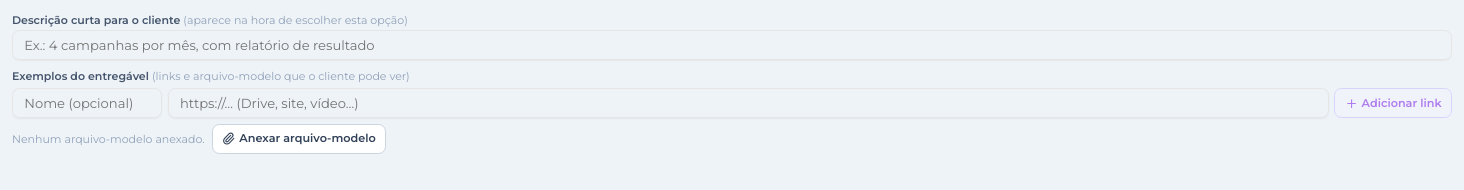
Test case: variação: descrição, links e arquivo-modelo › salva a descrição ao sair do campo e adiciona links válidos; recusa link sem http
The width and height of the screenshot is (1464, 190).
Later steps or results of the test are not shown.
Step 1. Type "4 campanhas por mês" into the field named "Descrição curta da opção" → (732,45), box left=12, top=30, right=1452, bottom=60
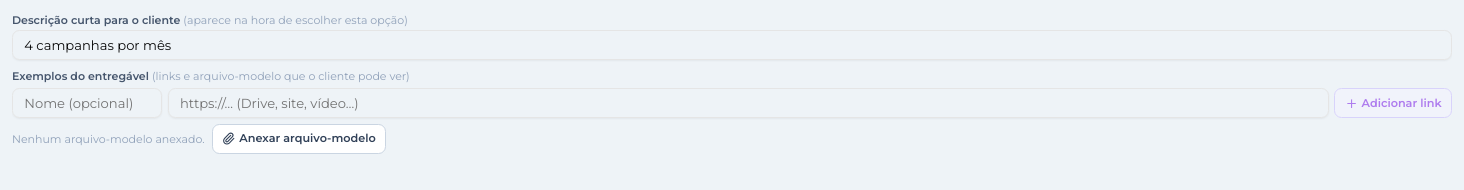
Step 2. Type "drive.google.com/x" into the field named "Endereço do link de exemplo" → (748,103), box left=168, top=88, right=1329, bottom=118
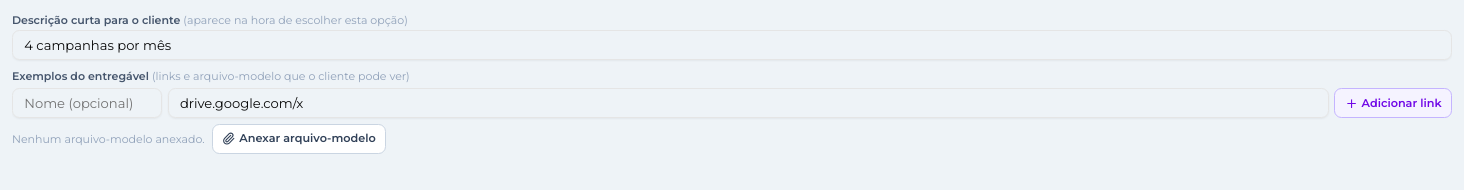
Step 3. Click the button "Adicionar link" → (1393,103), box left=1334, top=88, right=1452, bottom=118
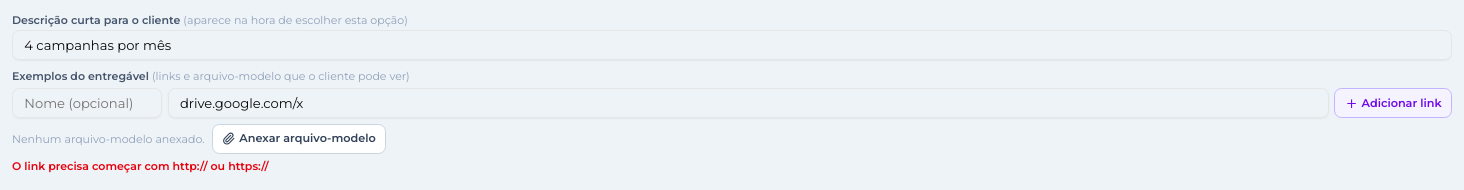
Check: the message shows "http", box left=12, top=158, right=269, bottom=172
